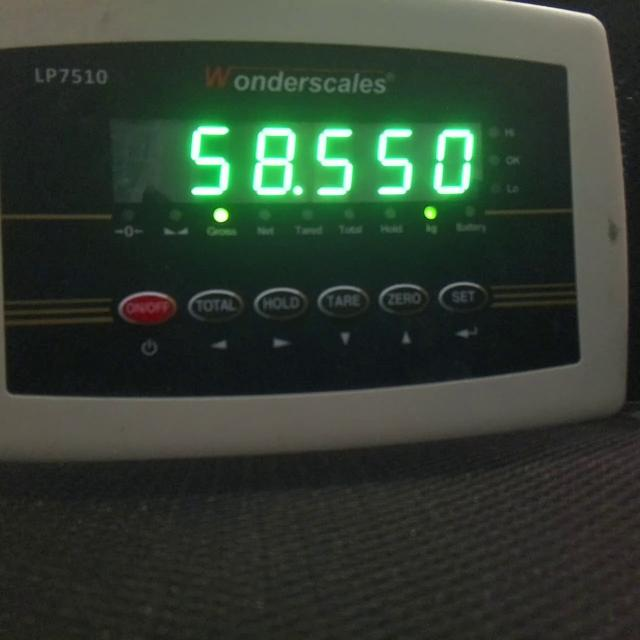.: (292, 186, 302, 196)
0: (434, 128, 475, 196)
5: (189, 122, 233, 200), (314, 126, 354, 196), (375, 127, 414, 195)
8: (252, 126, 297, 196)
